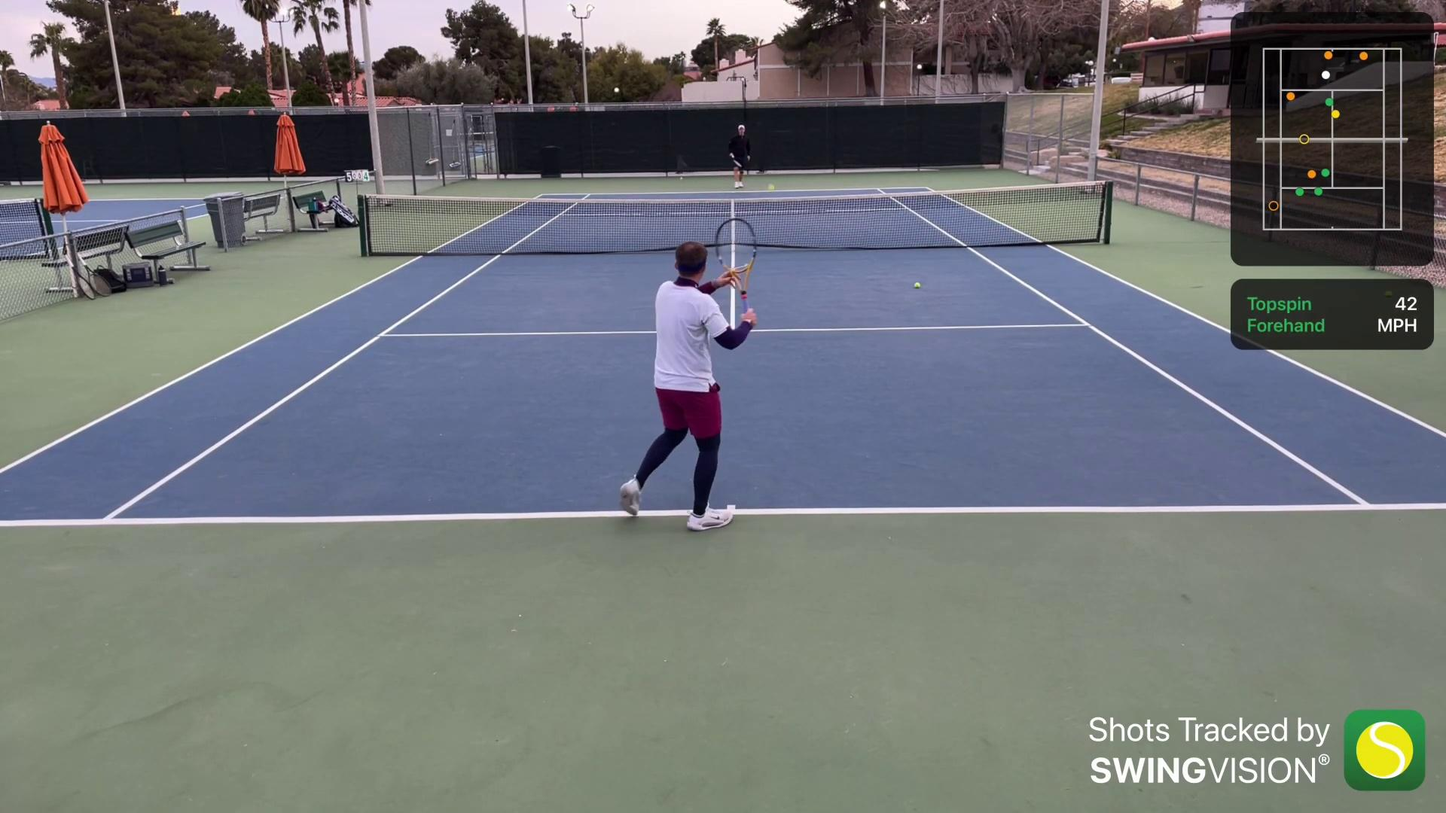ball: (909, 276, 921, 291), (766, 182, 775, 192)
